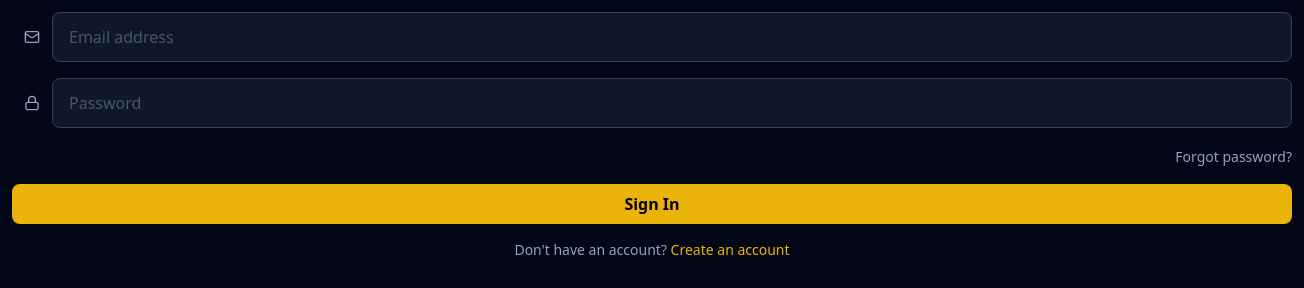
LoginForm › shows loading state while submitting
Type "test@example.com" into the field with placeholder "Email address" at (672,37), box [52,12,1292,62]
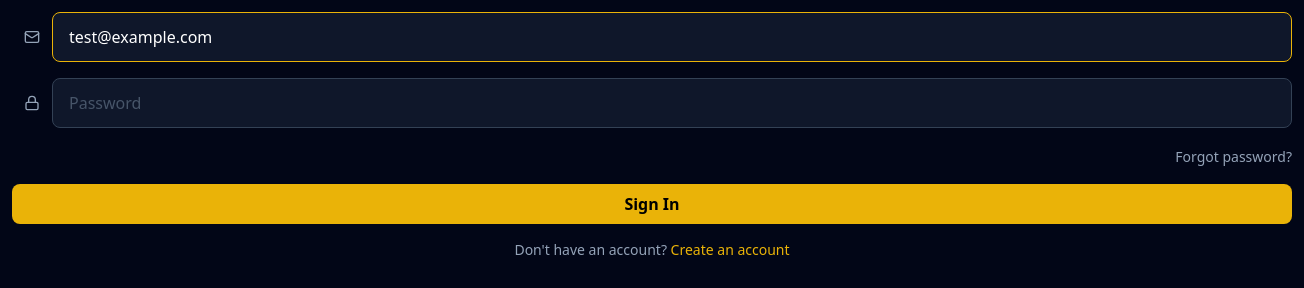
Type "password123" into the password field with placeholder "Password" at (672,103), box [52,78,1292,128]
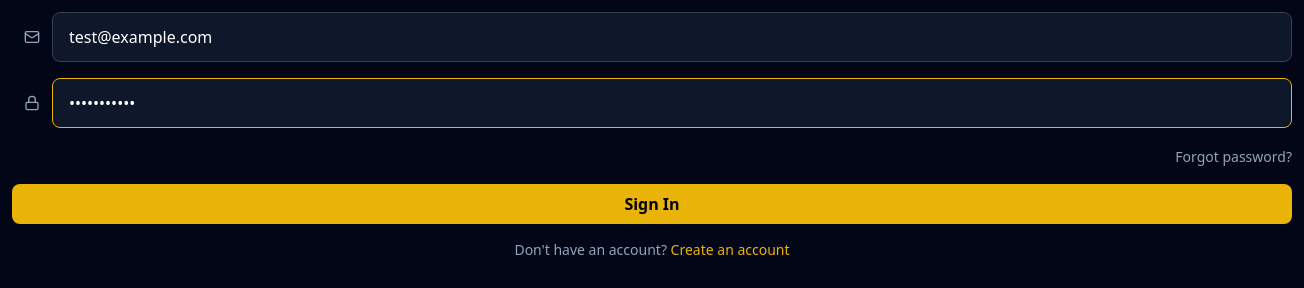
Click the button "Sign In" at (652,204), box [12,184,1292,224]
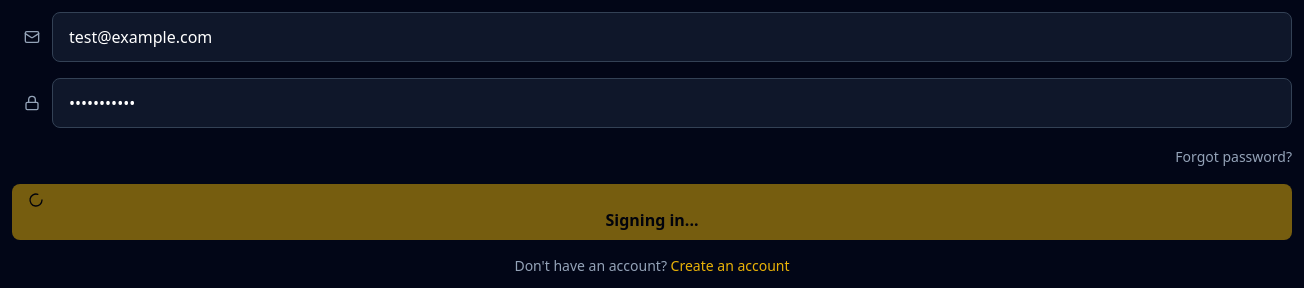
Check: the button "Signing in..." is shown, box [12,184,1292,240]
